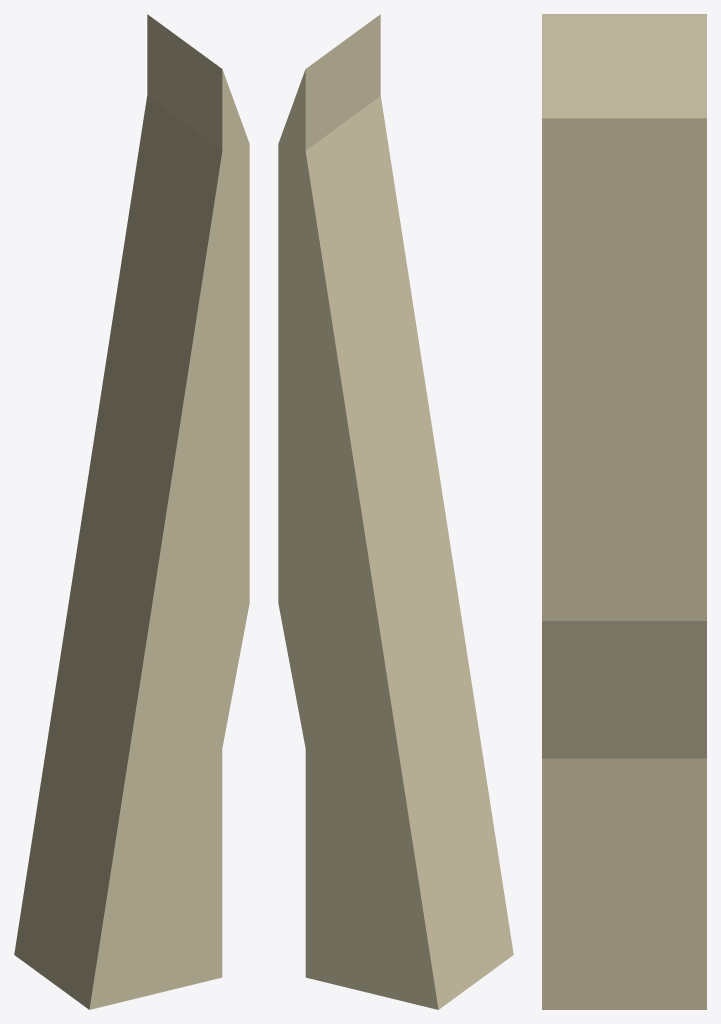
The model's file is wallStud.glb.
The picture shows the model from 3 angles, left to right: view 1: azimuth 30°, elevation 25°; view 2: azimuth 150°, elevation 25°; view 3: azimuth 270°, elevation 25°; orthographic projection. The views are drawn at different scales.
Visible parts, largest first — view 1: node_id3; view 2: node_id3; view 3: node_id3.
Boxes of the visible parts, x1,y1,x2,y2 form: node_id3: [14, 14, 249, 1009]; node_id3: [278, 14, 513, 1009]; node_id3: [542, 14, 706, 1009].
Size of the model in its own units: 0.0946 by 0.512 by 0.0768.
1 material, 1 textured.
